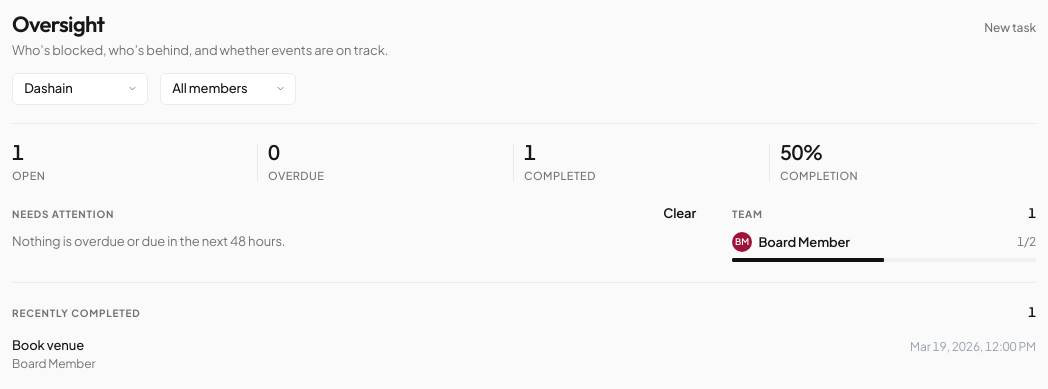
Test: TaskOversightPage › scopes the manager dashboard to the selected event
Expected: the element named "Oversight summary" is shown, [12,124,1036,184]
Expected: the text "Open" is shown, [12,169,45,182]
Select "Tihar" in the dropdown named "Event" at (80, 89), box [12,73,148,105]
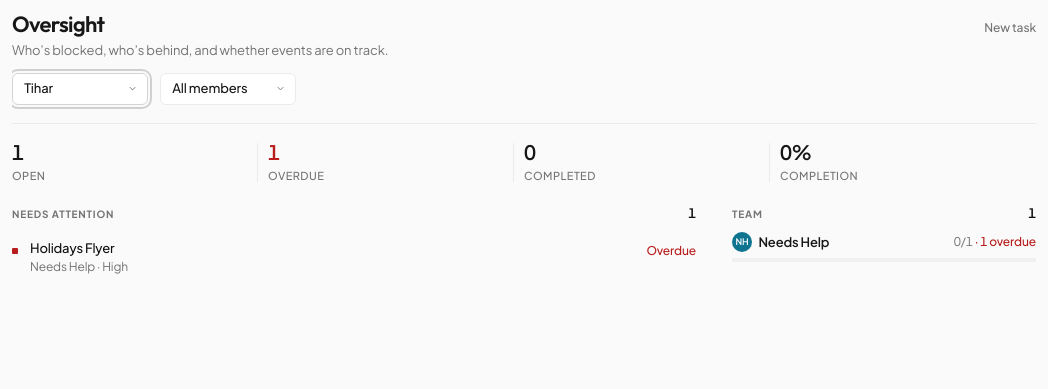
Now the link "Holidays Flyer Needs Help · High" is shown, box [30,240,128,274]
Now the link "Book venue" is gone
